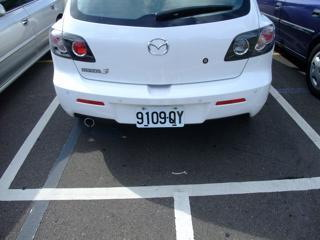plate: (133, 104, 185, 129)
